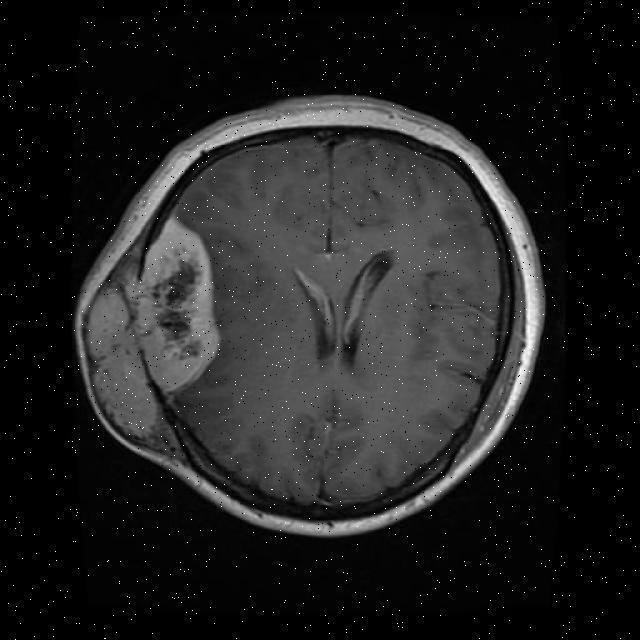Meningioma: (82, 216, 220, 459)
